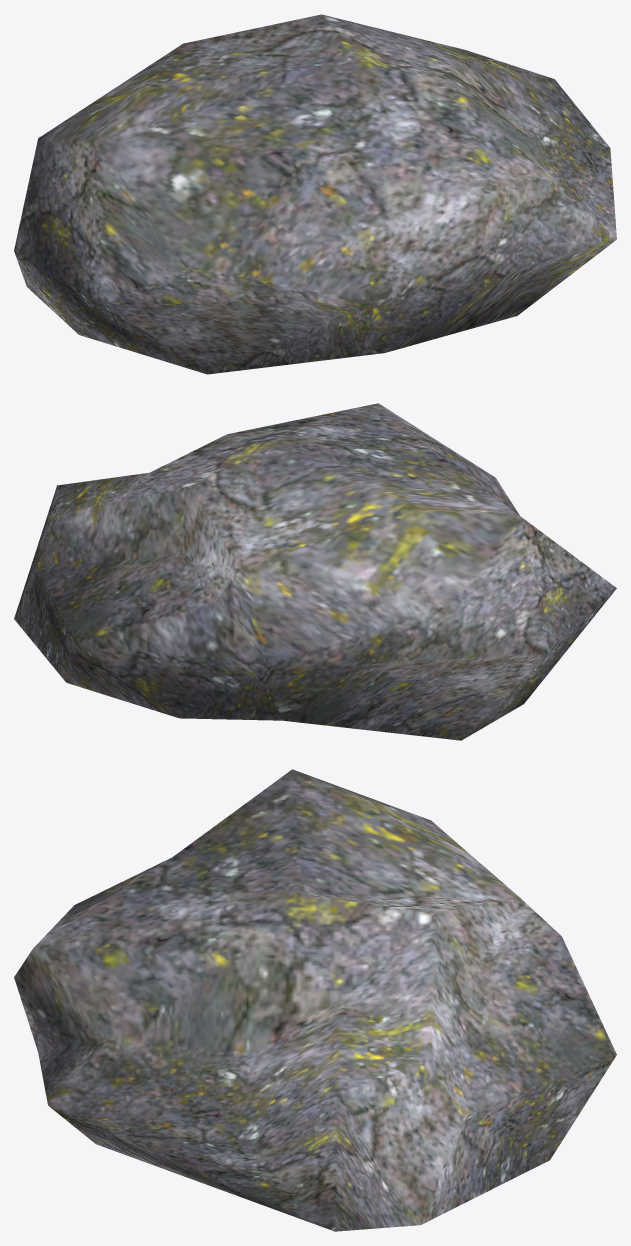
File: rock_weatheredmossy_medium_a3_l0.fbx
3 views of the same model, one above another, from view 1: azimuth 30°, elevation 25°; view 2: azimuth 150°, elevation 25°; view 3: azimuth 270°, elevation 25° (orthographic). The views are drawn at different scales.
Visible parts, largest first — view 1: mesh_node; view 2: mesh_node; view 3: mesh_node.
Part boxes in pixels (<box>): mesh_node: <box>14,14,616,374</box>; mesh_node: <box>14,403,616,740</box>; mesh_node: <box>14,769,616,1231</box>.
Bounding box in the file's own units: 0.4424 × 0.1561 × 0.3797.
1 material, 1 textured.
